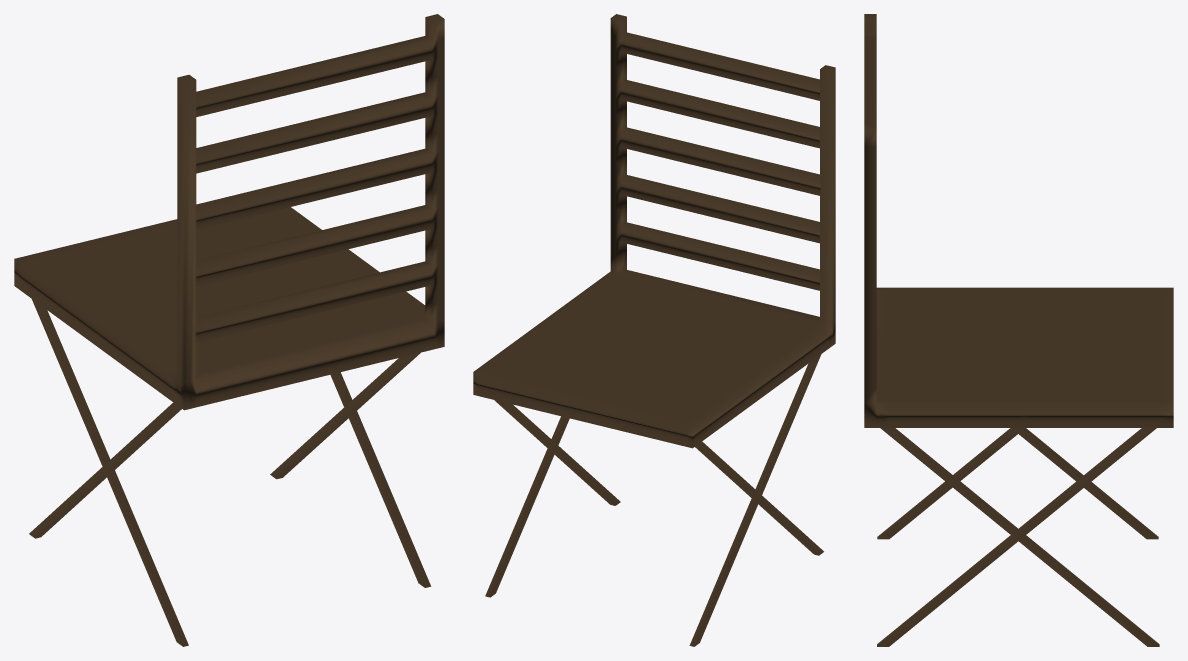
File: chair.fbx
3 renders of one model, left to right at view 1: azimuth 30°, elevation 25°; view 2: azimuth 150°, elevation 25°; view 3: azimuth 270°, elevation 25°, orthographic. The views are drawn at different scales.
Visible parts, largest first — view 1: Cube; view 2: Cube; view 3: Cube.
Part boxes in pixels (box(x1,y1,x2,y2)): Cube: box(14, 14, 444, 646); Cube: box(473, 14, 835, 646); Cube: box(864, 14, 1173, 646).
Bounding box in the file's own units: 0.5095 × 1.07 × 0.5758.
